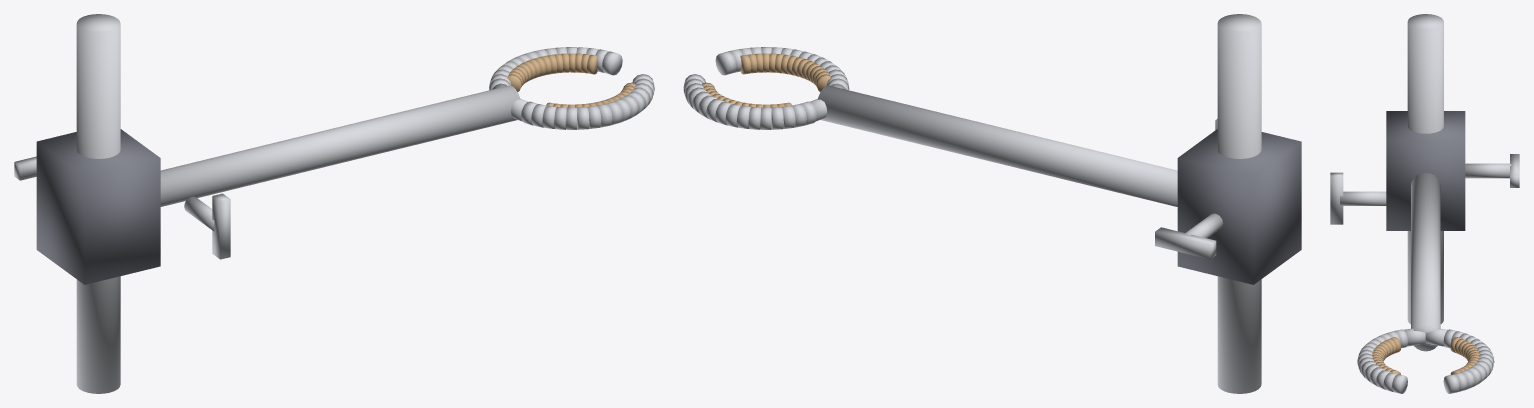
Rendered from pinza-nuez.glb.
3 views of the same model, side by side, from view 1: azimuth 30°, elevation 25°; view 2: azimuth 150°, elevation 25°; view 3: azimuth 270°, elevation 25° (orthographic). The views are drawn at different scales.
Visible parts, largest first — view 1: pinza-nuez_1, pinza-nuez_4, pinza-nuez_0, pinza-nuez_8, pinza-nuez_9, pinza-nuez_7, pinza-nuez_6, pinza-nuez_5; view 2: pinza-nuez_1, pinza-nuez_4, pinza-nuez_0, pinza-nuez_7, pinza-nuez_10, pinza-nuez_8, pinza-nuez_3, pinza-nuez_2; view 3: pinza-nuez_1, pinza-nuez_0, pinza-nuez_4, pinza-nuez_7, pinza-nuez_8, pinza-nuez_2, pinza-nuez_6, pinza-nuez_5, pinza-nuez_10, pinza-nuez_9, pinza-nuez_3, pinza-nuez_12 (+1 smaller).
Part boxes in pixels (x1,y1,x2,y2): pinza-nuez_1: (36, 129, 160, 284); pinza-nuez_4: (160, 85, 520, 206); pinza-nuez_0: (76, 14, 120, 393); pinza-nuez_8: (521, 74, 654, 129); pinza-nuez_9: (507, 53, 597, 91); pinza-nuez_7: (489, 47, 622, 90); pinza-nuez_6: (212, 193, 230, 259); pinza-nuez_5: (184, 196, 214, 231); pinza-nuez_1: (1177, 129, 1301, 284); pinza-nuez_4: (817, 85, 1177, 206); pinza-nuez_0: (1217, 14, 1261, 393); pinza-nuez_7: (683, 74, 817, 129); pinza-nuez_10: (740, 53, 830, 92); pinza-nuez_8: (715, 47, 849, 90); pinza-nuez_3: (1155, 227, 1216, 259); pinza-nuez_2: (1185, 213, 1223, 238); pinza-nuez_1: (1386, 111, 1465, 230); pinza-nuez_0: (1407, 14, 1443, 324); pinza-nuez_4: (1411, 173, 1440, 351); pinza-nuez_7: (1443, 329, 1494, 393); pinza-nuez_8: (1357, 329, 1407, 393); pinza-nuez_2: (1465, 163, 1511, 178); pinza-nuez_6: (1330, 172, 1343, 224); pinza-nuez_5: (1340, 191, 1386, 205); pinza-nuez_10: (1372, 337, 1401, 374); pinza-nuez_9: (1450, 337, 1479, 374); pinza-nuez_3: (1510, 154, 1519, 187); pinza-nuez_12: (1425, 328, 1447, 346).
Size of the model in its own units: 0.1673 by 0.1 by 0.0575.
